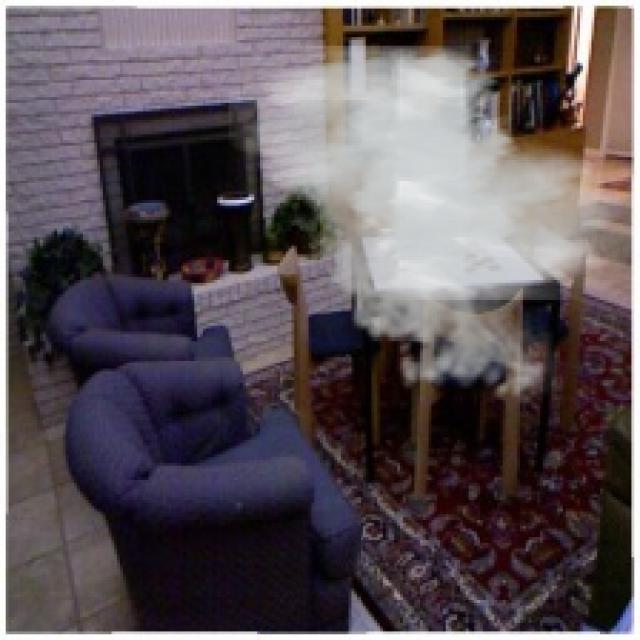Smoke: (228, 46, 634, 408)
